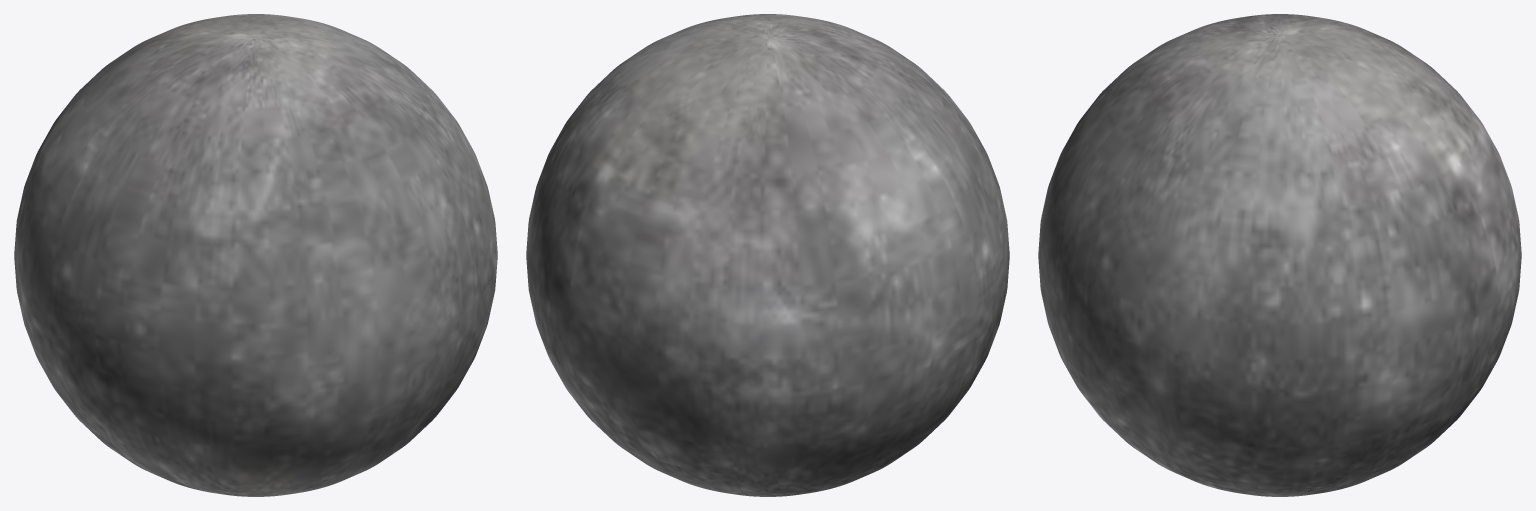
Rendered from moon.obj.
The picture shows the model from 3 angles, left to right: view 1: azimuth 30°, elevation 25°; view 2: azimuth 150°, elevation 25°; view 3: azimuth 270°, elevation 25°; orthographic projection.
Parts seen in each view (by area): view 1: Sphere_Sphere.003; view 2: Sphere_Sphere.003; view 3: Sphere_Sphere.003.
Part boxes in pixels (box(x1,y1,x2,y2)): Sphere_Sphere.003: box(14, 14, 497, 496); Sphere_Sphere.003: box(526, 14, 1009, 496); Sphere_Sphere.003: box(1038, 14, 1521, 496).
Size of the model in its own units: 2 by 2 by 2.
Materials: 1 (1 with a texture image).
